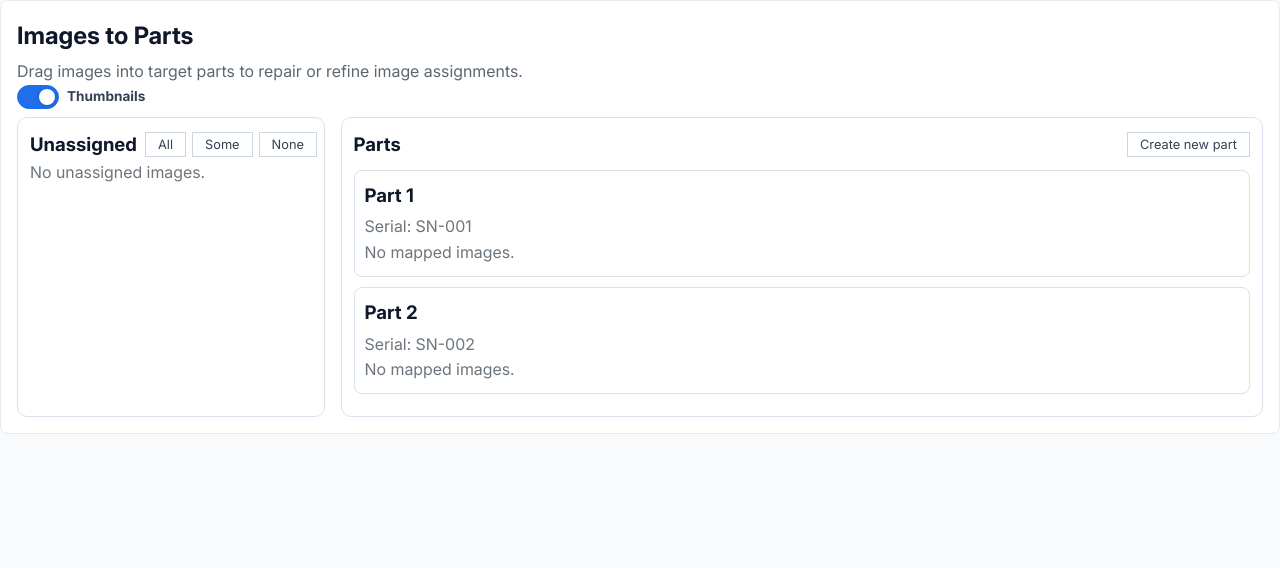
it: ImagesToPartsTab › adds an empty new part above existing parts after creating a part
Click the button "Create new part" at (1188, 144), box [1127,132,1250,157]
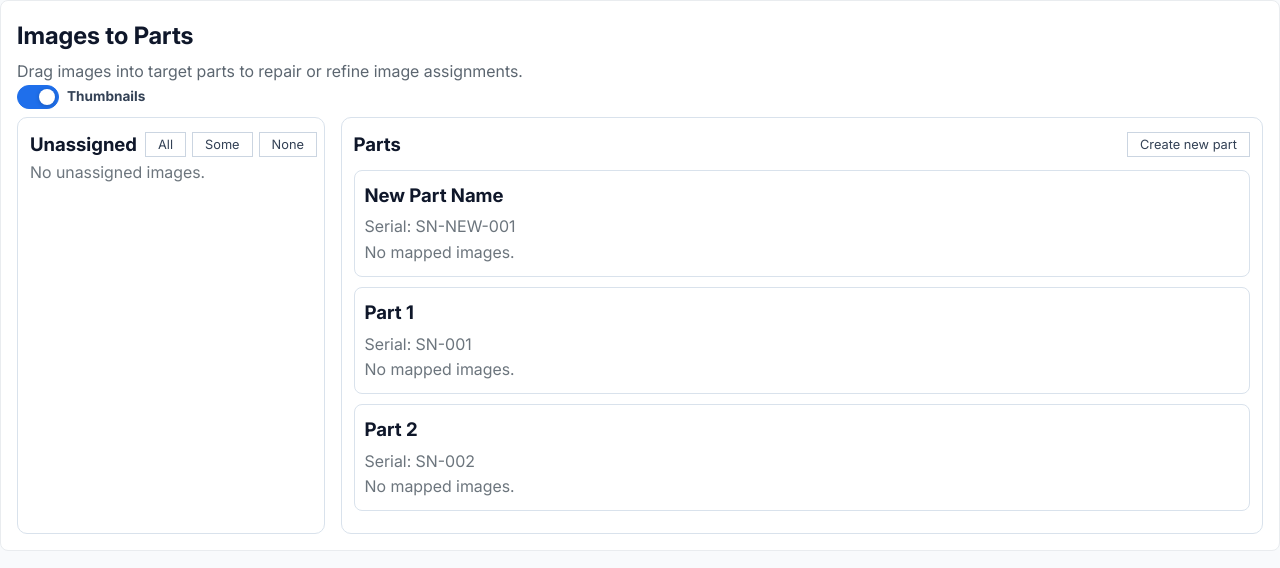
Expected: the text "No mapped images." below "SN-NEW-001" is shown, [364,242,515,262]
Expected: the button "New Part Name" is shown, [364,180,504,210]
Expected: the text "Serial: SN-NEW-001" is shown, [364,216,515,236]
